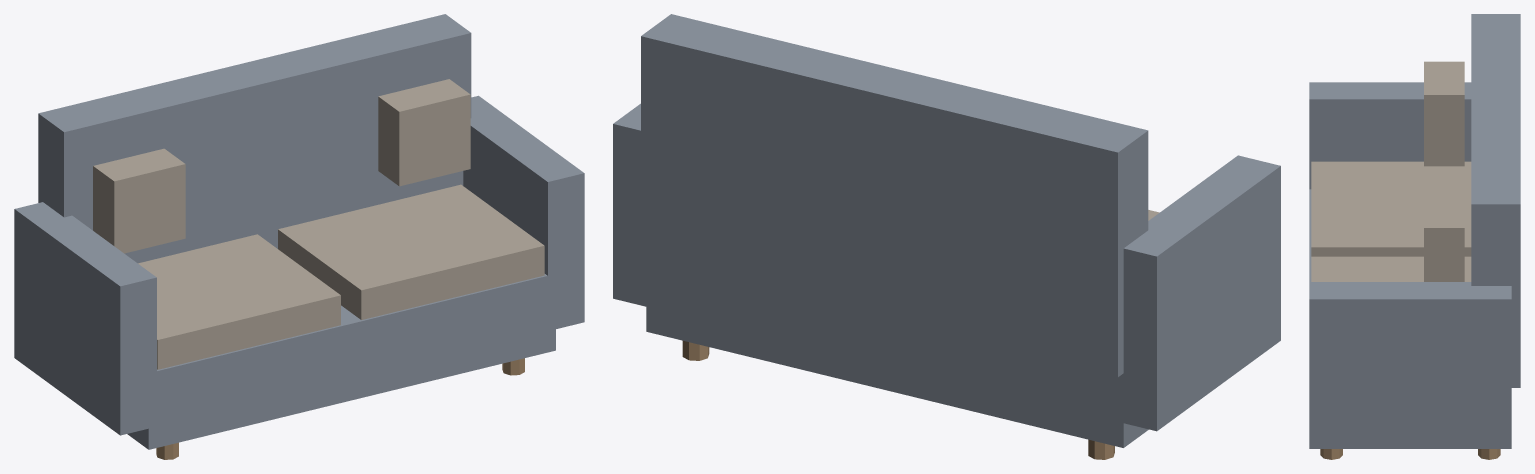
Rendered from couch.glb.
3 views of the same model, side by side, from view 1: azimuth 30°, elevation 25°; view 2: azimuth 150°, elevation 25°; view 3: azimuth 270°, elevation 25° (orthographic). The views are drawn at different scales.
Visible parts, largest first — view 1: Backrest, SeatBase, Arm_L, Cushion_R, Cushion_L, Arm_R, Pillow_R, Pillow_L; view 2: Backrest, SeatBase, Arm_L, Arm_R; view 3: Arm_R, Backrest, Cushion_L, Arm_L, Pillow_L, Pillow_R, Cushion_R, SeatBase.
Boxes of the visible parts, x1,y1,x2,y2 form: Backrest: [38, 14, 471, 263]; SeatBase: [127, 274, 555, 449]; Arm_L: [14, 202, 156, 435]; Cushion_R: [278, 184, 544, 319]; Cushion_L: [138, 234, 340, 369]; Arm_R: [463, 95, 584, 328]; Pillow_R: [378, 79, 470, 186]; Pillow_L: [93, 148, 185, 253]; Backrest: [641, 14, 1148, 377]; SeatBase: [646, 264, 1148, 447]; Arm_L: [1114, 155, 1280, 431]; Arm_R: [613, 103, 655, 308]; Arm_R: [1309, 282, 1511, 441]; Backrest: [1471, 14, 1520, 387]; Cushion_L: [1311, 161, 1471, 256]; Arm_L: [1309, 82, 1471, 189]; Pillow_L: [1424, 61, 1464, 166]; Pillow_R: [1424, 194, 1464, 281]; Cushion_R: [1311, 256, 1471, 281]; SeatBase: [1309, 189, 1511, 448].
Bounding box in the file's own units: 2.28 × 1.3 × 0.94.
